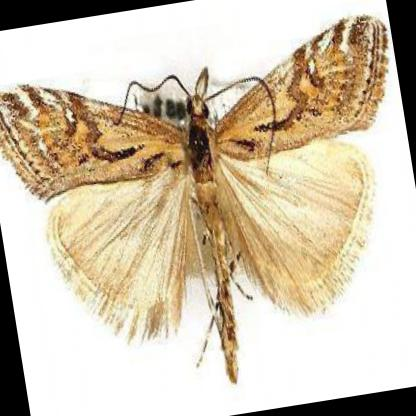Hellula undalis: (0, 13, 387, 393)
